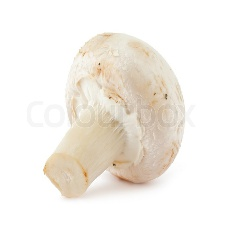mushroom: (45, 30, 185, 200)
